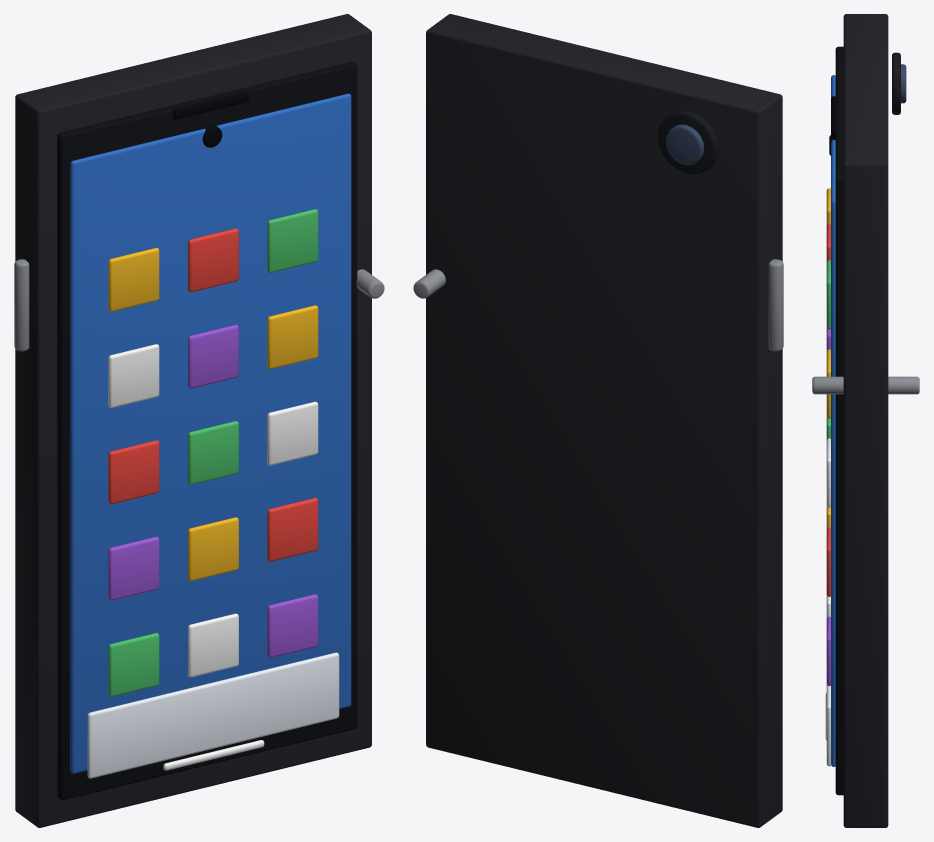
File: smartphone.glb
3 renders of one model, left to right at view 1: azimuth 30°, elevation 25°; view 2: azimuth 150°, elevation 25°; view 3: azimuth 270°, elevation 25°, orthographic. The views are drawn at different scales.
Parts seen in each view (by area): view 1: smartphone; view 2: smartphone; view 3: smartphone.
Boxes of the visible parts, box(x1,y1,x2,y2) form: smartphone: box(14, 14, 384, 827); smartphone: box(413, 14, 783, 827); smartphone: box(812, 14, 919, 827).
Size of the model in its own units: 0.413 by 0.82 by 0.12.
